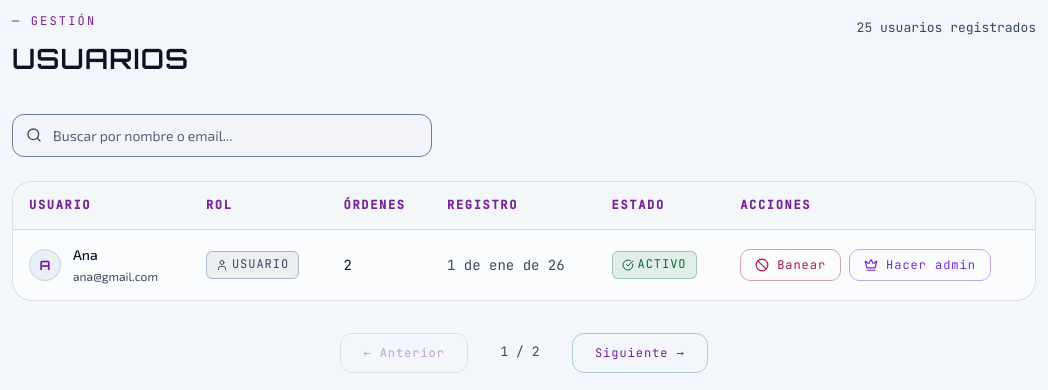
Test: AdminUsers — carga, búsqueda y paginación de usuarios › al hacer click en "Siguiente" solicita la página 2
Check: the text "Ana" is shown, box [73,246,98,263]
What coordinates should you click on to do the following:
click the button "Siguiente →"
I would click on:
 (640, 353)
Its box is [572,333,708,373].
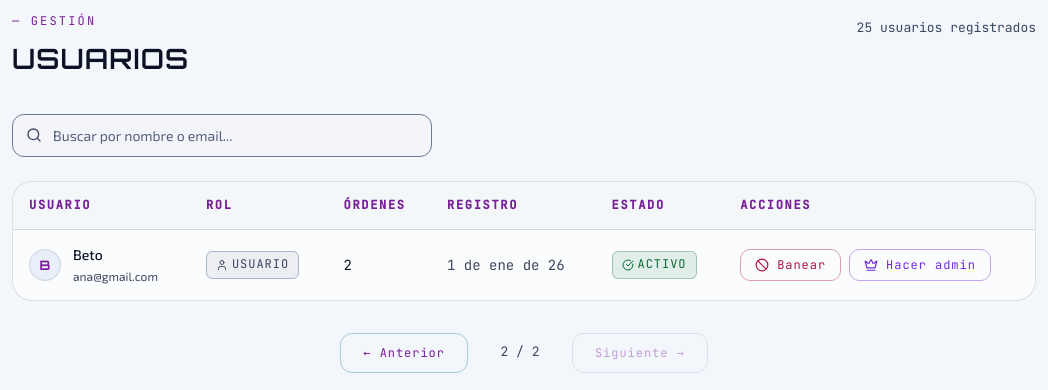
Check: the text "Beto" is shown, box [73,246,103,263]
